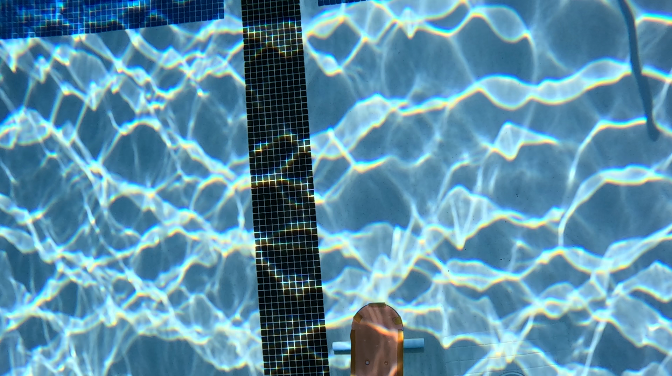pathmarker: (352, 302, 402, 375)
